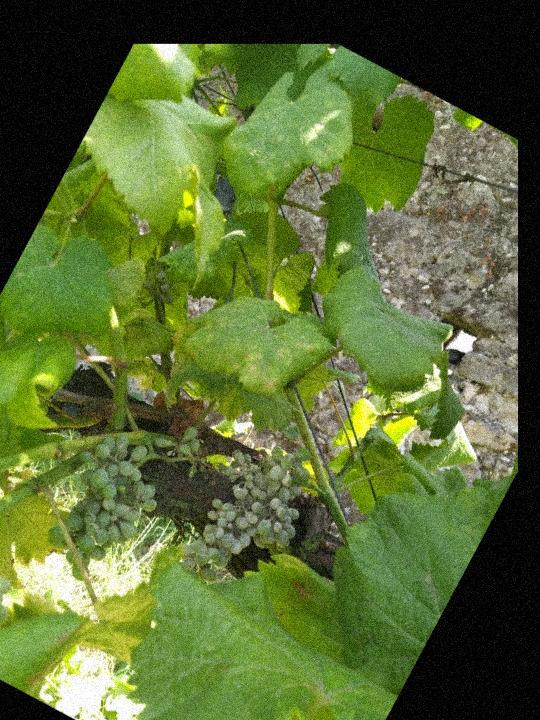grape: (22, 416, 181, 599), (172, 428, 332, 609)
